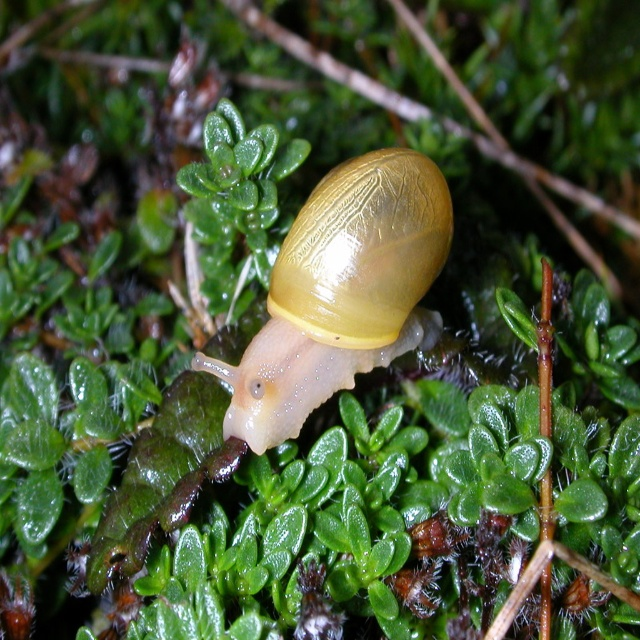Snail: (189, 145, 459, 459)
